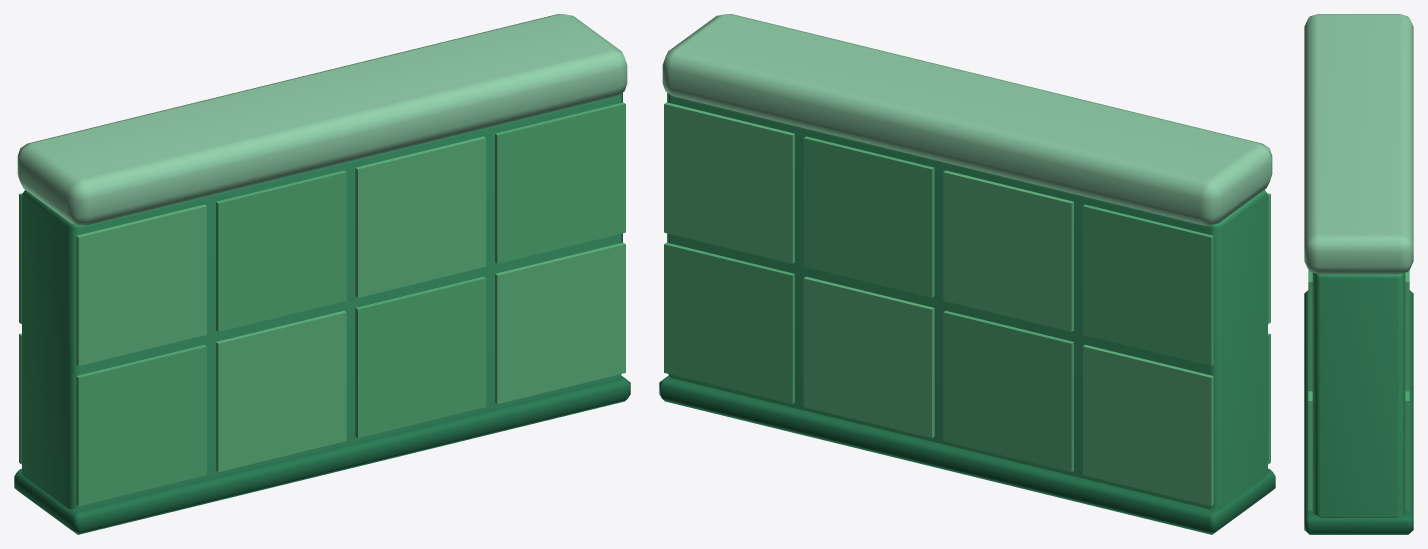
Rendered from mint-wall1.glb.
The picture shows the model from 3 angles, left to right: view 1: azimuth 30°, elevation 25°; view 2: azimuth 150°, elevation 25°; view 3: azimuth 270°, elevation 25°; orthographic projection. The views are drawn at different scales.
Visible parts, largest first — view 1: mint-wall1; view 2: mint-wall1; view 3: mint-wall1.
Boxes of the visible parts, box(x1,y1,x2,y2) form: mint-wall1: box(14, 14, 630, 534); mint-wall1: box(659, 14, 1275, 534); mint-wall1: box(1304, 14, 1413, 534).
Bounding box in the file's own units: 2 × 1.2 × 0.4.
